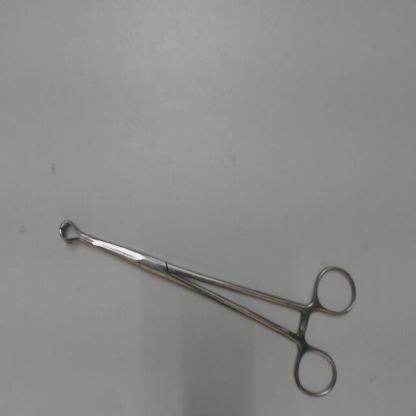8 Babcock Tissue Forceps: (56, 211, 362, 402)
